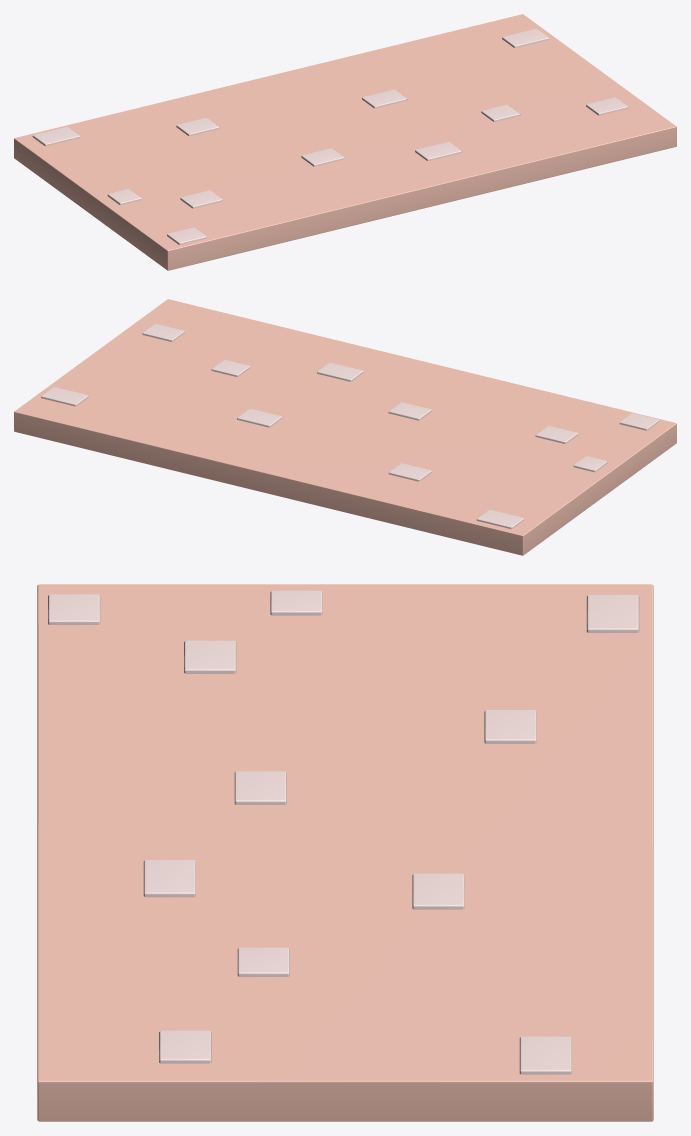
File: Public_10_Base_1.glb
The picture shows the model from 3 angles, top to bottom: view 1: azimuth 30°, elevation 25°; view 2: azimuth 150°, elevation 25°; view 3: azimuth 270°, elevation 25°; orthographic projection. The views are drawn at different scales.
Visible parts, largest first — view 1: Public_10_Base_1; view 2: Public_10_Base_1; view 3: Public_10_Base_1.
Part boxes in pixels (left/top/right/bottom): Public_10_Base_1: left=14, top=14, right=676, bottom=270; Public_10_Base_1: left=14, top=299, right=676, bottom=555; Public_10_Base_1: left=37, top=584, right=653, bottom=1121.
Size of the model in its own units: 32.69 by 1.4 by 17.12.
Materials: 1 (1 with a texture image).
